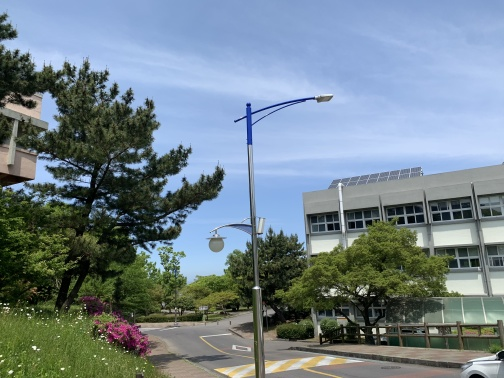College Of Education: (1, 66, 52, 192)
